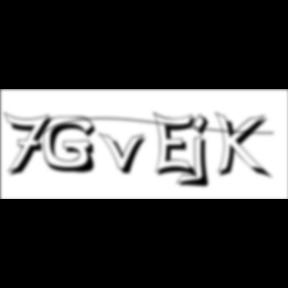7: (4, 111, 58, 179)
E: (154, 110, 202, 182)
G: (44, 116, 102, 176)
K: (216, 110, 274, 182)
j: (190, 113, 216, 191)
v: (99, 131, 153, 177)
